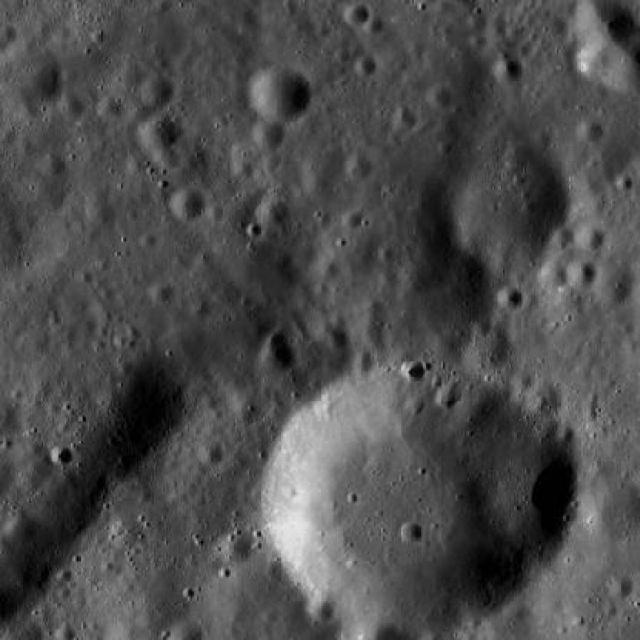crater: (263, 358, 552, 640), (454, 150, 570, 264), (0, 41, 62, 118), (573, 0, 637, 52), (250, 66, 308, 123), (244, 250, 298, 302), (464, 326, 512, 372), (593, 262, 636, 306), (400, 256, 442, 296), (302, 145, 342, 184), (139, 114, 178, 151), (215, 527, 252, 564), (256, 333, 293, 370), (574, 44, 610, 80), (172, 186, 206, 220), (257, 197, 291, 230), (528, 382, 561, 415), (140, 72, 172, 105), (565, 259, 598, 290), (252, 118, 285, 148), (232, 139, 262, 170), (0, 398, 23, 436), (18, 461, 48, 490), (18, 333, 48, 362), (359, 316, 388, 346), (7, 513, 36, 542), (540, 262, 568, 290), (308, 172, 336, 200), (495, 57, 523, 85), (57, 92, 85, 119), (428, 81, 456, 108), (344, 154, 372, 180), (118, 62, 146, 88), (608, 574, 634, 600), (577, 224, 603, 250), (304, 596, 330, 621), (198, 440, 224, 465), (497, 285, 523, 310), (503, 145, 529, 170), (392, 109, 417, 134), (98, 95, 122, 119), (543, 16, 568, 39), (42, 152, 66, 175), (147, 280, 170, 303), (346, 3, 369, 26), (578, 120, 602, 142), (321, 326, 344, 348), (397, 358, 420, 380), (234, 398, 257, 420), (316, 257, 338, 280), (398, 518, 420, 540), (432, 384, 454, 406), (156, 146, 178, 168), (189, 296, 211, 318), (262, 150, 284, 172), (486, 14, 508, 36), (91, 203, 114, 224), (0, 530, 17, 558), (348, 353, 370, 373), (355, 54, 377, 74), (513, 372, 533, 392), (554, 228, 574, 248), (52, 444, 72, 464), (124, 152, 144, 172), (377, 267, 397, 287), (234, 158, 254, 178), (237, 9, 257, 29), (506, 602, 526, 622), (53, 621, 73, 640), (532, 129, 551, 148), (38, 15, 56, 34), (188, 0, 208, 17), (342, 210, 360, 228), (80, 317, 98, 334), (54, 24, 72, 41), (472, 320, 490, 337), (510, 268, 527, 286), (468, 14, 486, 31), (1, 127, 18, 144), (406, 394, 422, 412), (366, 16, 382, 33), (0, 23, 15, 41), (558, 424, 574, 440), (616, 176, 632, 192), (436, 0, 452, 14), (470, 33, 484, 49), (410, 36, 424, 52), (153, 0, 171, 12)
